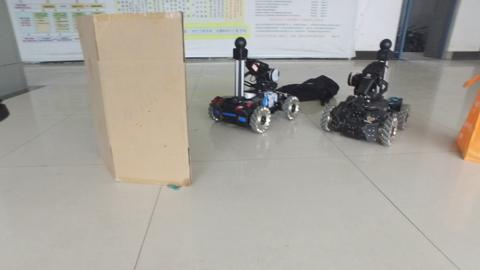box: (79, 15, 191, 185)
chariot: (318, 39, 411, 146), (211, 37, 296, 131)
